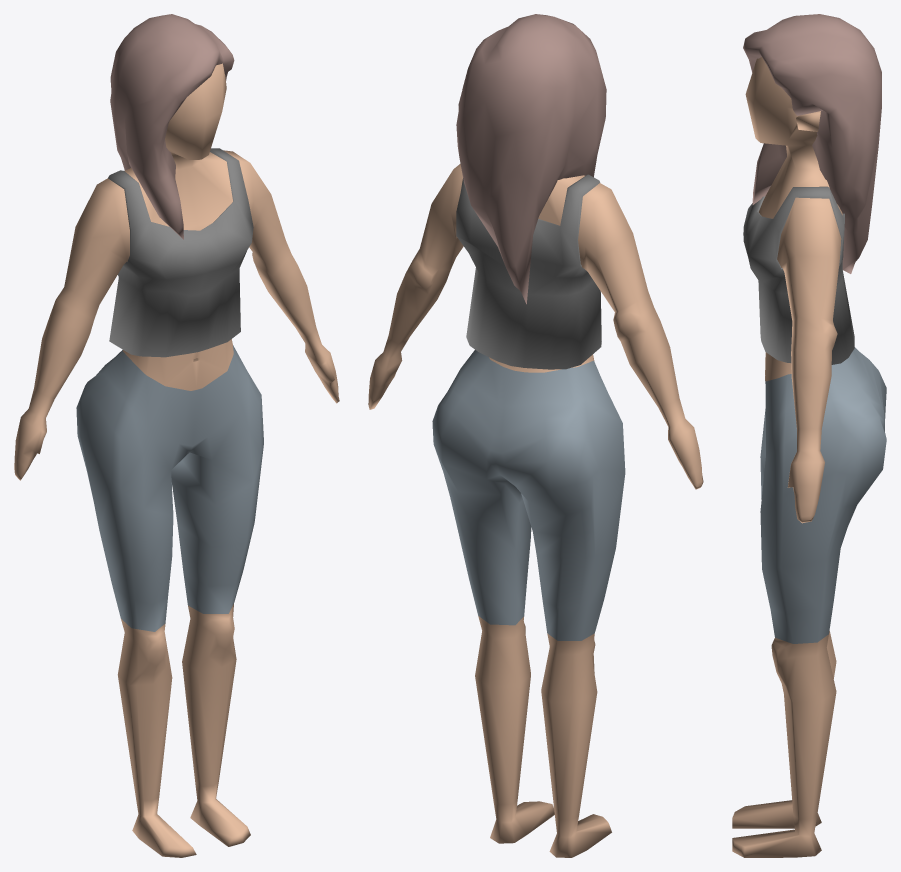
File: character-normal.fbx
3 renders of one model, left to right at view 1: azimuth 30°, elevation 25°; view 2: azimuth 150°, elevation 25°; view 3: azimuth 270°, elevation 25°, orthographic. The views are drawn at different scales.
Visible parts, largest first — view 1: character-normal; view 2: character-normal; view 3: character-normal.
Boxes of the visible parts, box(x1,y1,x2,y2) form: character-normal: box(14, 14, 339, 857); character-normal: box(368, 14, 703, 857); character-normal: box(732, 14, 886, 857).
Bounding box in the file's own units: 1.38 × 3.31 × 0.5664.
